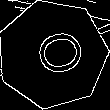O_W: (22, 26, 83, 82)
